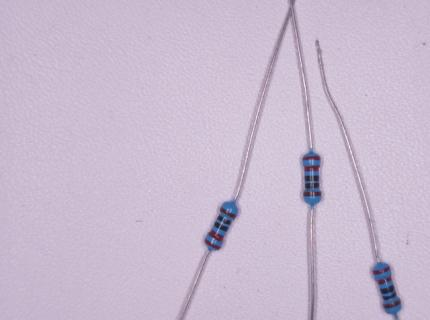Black band: (214, 222, 229, 232), (217, 215, 231, 225), (381, 284, 395, 294), (383, 292, 396, 300), (304, 183, 319, 188), (305, 176, 319, 181)
Brown band: (220, 207, 237, 219), (384, 300, 401, 309), (304, 192, 321, 196)
Red band: (205, 238, 221, 250), (209, 230, 224, 242), (373, 265, 391, 275), (377, 275, 392, 285), (304, 165, 320, 171), (302, 156, 321, 161)
